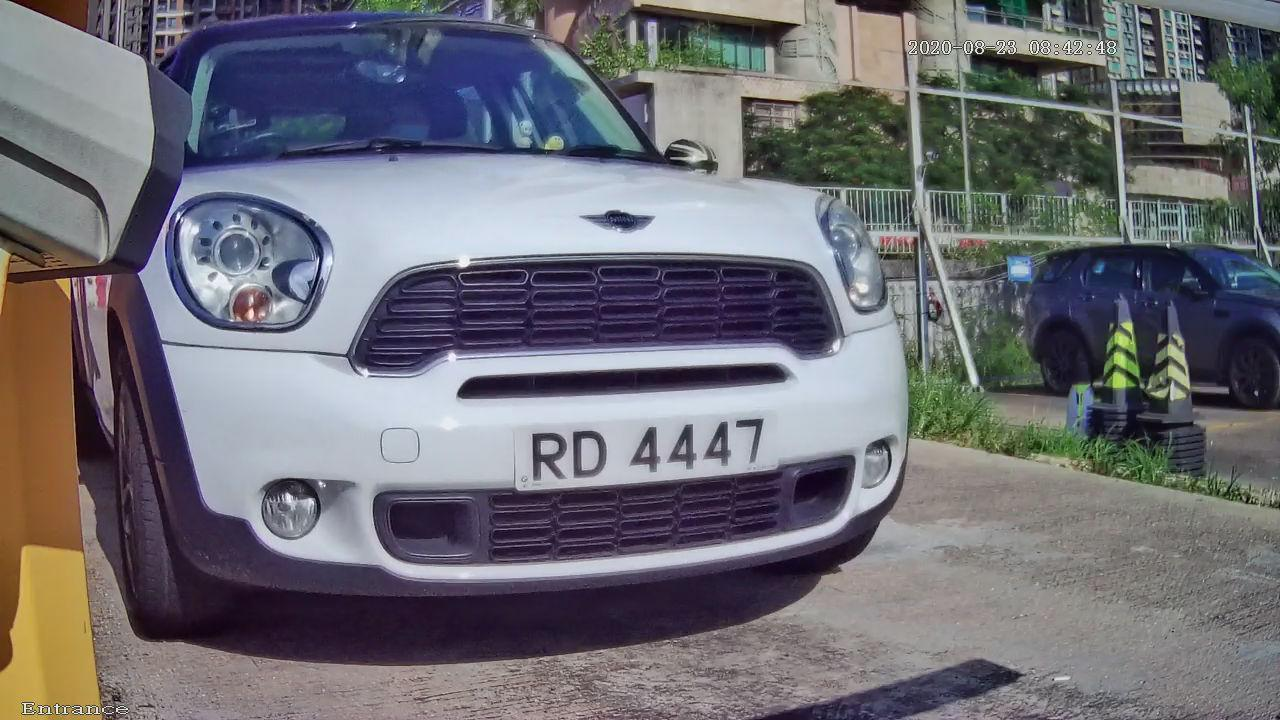Car: (35, 1, 978, 679)
License Plate: (456, 343, 845, 547)
